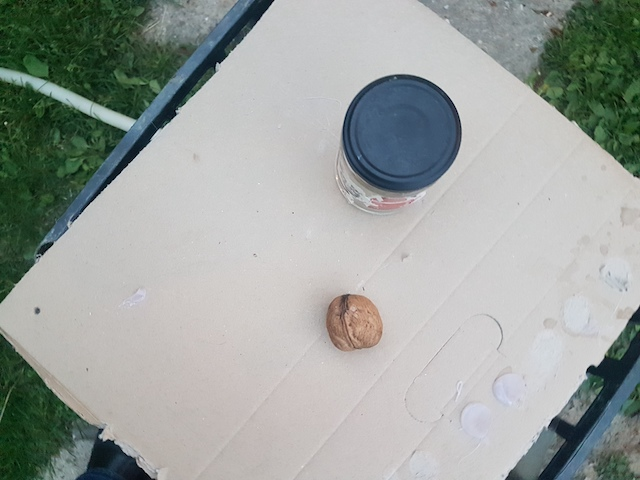nut: (324, 292, 388, 355)
recipient: (343, 73, 464, 191)
